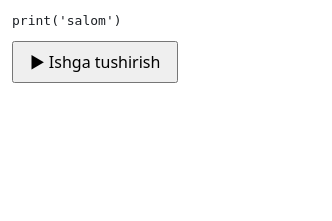
it: RunnableCode (CNT-02, LAB-02) › chiqish, grafik va natija
Step 1. Click the button "▶ Ishga tushirish" → (95, 62), box [12,41,178,83]
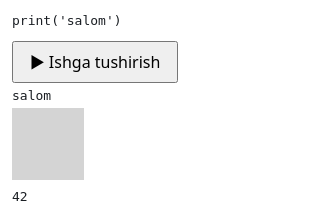
Expected: the text "salom" is shown, [12,88,51,103]
Expected: the text "42" is shown, [12,189,28,204]
